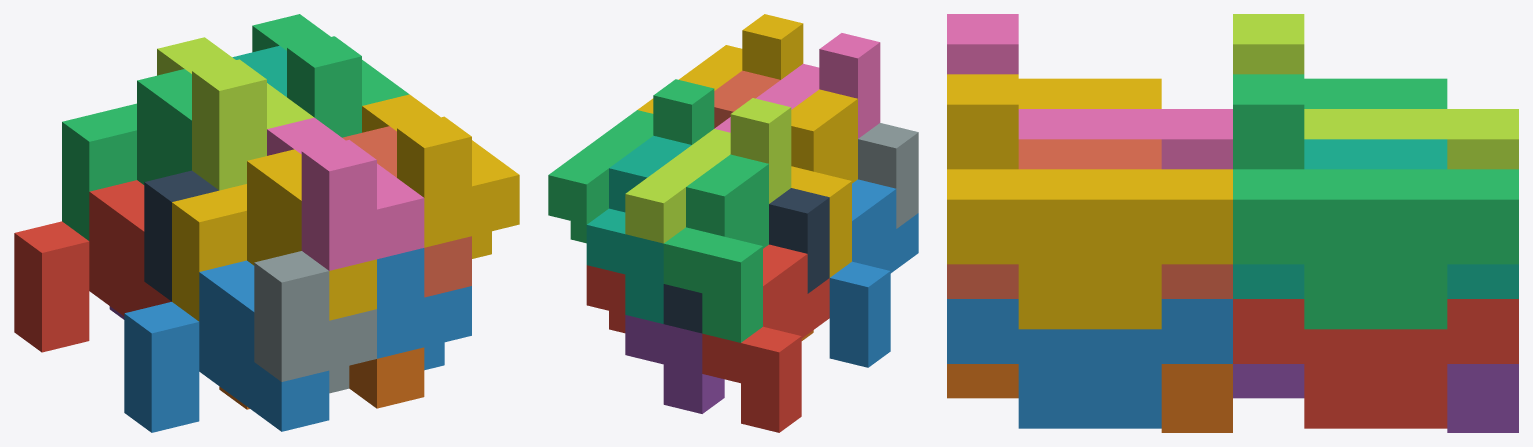
Rendered from tiling.obj.
3 views of the same model, side by side, from view 1: azimuth 30°, elevation 25°; view 2: azimuth 150°, elevation 25°; view 3: azimuth 270°, elevation 25° (orthographic). The views are drawn at different scales.
Parts seen in each view (by area): view 1: copy_1_domain_2, copy_1_domain_1, copy_1_domain_4, copy_2_domain_4, copy_2_domain_8, copy_1_domain_3, copy_2_domain_2, copy_2_domain_3, copy_2_domain_7, copy_2_domain_6, copy_2_domain_1, copy_1_domain_8 (+2 smaller); view 2: copy_1_domain_3, copy_1_domain_1, copy_1_domain_2, copy_2_domain_3, copy_2_domain_7, copy_1_domain_4, copy_1_domain_7, copy_2_domain_4, copy_2_domain_1, copy_1_domain_5, copy_2_domain_8, copy_2_domain_2 (+2 smaller); view 3: copy_2_domain_7, copy_2_domain_8, copy_2_domain_5, copy_2_domain_6, copy_2_domain_3, copy_2_domain_4, copy_1_domain_7, copy_1_domain_8, copy_1_domain_6, copy_1_domain_5, copy_1_domain_3, copy_1_domain_4.
Boxes of the visible parts, x1,y1,x2,y2 form: copy_1_domain_2: (124,260,329,432); copy_1_domain_1: (14,180,171,352); copy_1_domain_4: (172,149,376,321); copy_2_domain_4: (267,117,424,270); copy_2_domain_8: (362,94,519,258); copy_1_domain_3: (62,69,191,240); copy_2_domain_2: (254,251,376,393); copy_2_domain_3: (157,37,313,190); copy_2_domain_7: (252,14,409,137); copy_2_domain_6: (377,248,471,370); copy_2_domain_1: (144,170,218,301); copy_1_domain_8: (342,126,471,297); copy_1_domain_3: (663,154,768,342); copy_1_domain_1: (702,244,829,432); copy_1_domain_2: (829,179,918,367); copy_2_domain_3: (625,98,791,243); copy_2_domain_7: (548,79,714,243); copy_1_domain_4: (791,89,857,277); copy_1_domain_7: (586,135,691,323); copy_2_domain_4: (714,33,880,138); copy_2_domain_1: (663,188,829,333); copy_1_domain_5: (625,315,724,413); copy_2_domain_8: (637,14,803,113); copy_2_domain_2: (858,123,918,228); copy_2_domain_7: (1233,74,1518,329); copy_2_domain_8: (947,74,1232,329); copy_2_domain_5: (1233,299,1518,428); copy_2_domain_6: (947,299,1232,428); copy_2_domain_3: (1233,14,1518,169); copy_2_domain_4: (947,14,1232,169); copy_1_domain_7: (1233,139,1518,298); copy_1_domain_8: (947,139,1232,298); copy_1_domain_6: (947,364,1232,432); copy_1_domain_5: (1233,364,1518,432); copy_1_domain_3: (1304,78,1447,108); copy_1_domain_4: (1018,78,1161,108).
Size of the model in its own units: 6 by 6 by 8.
